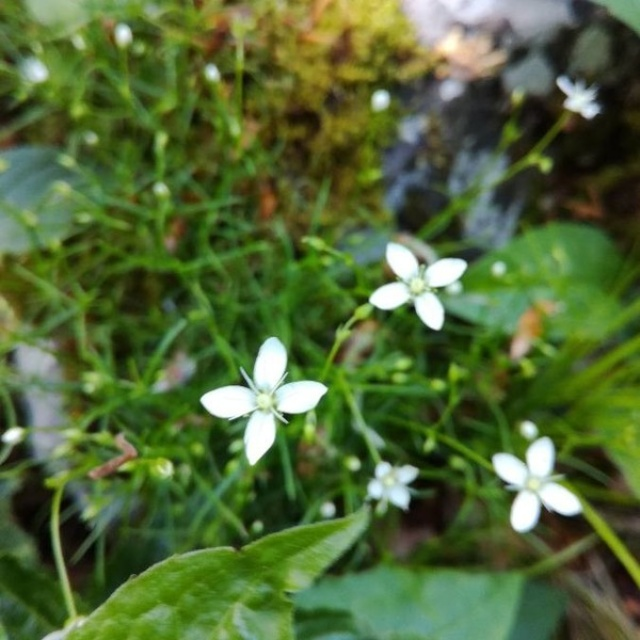obstacle: (122, 226, 593, 564)
